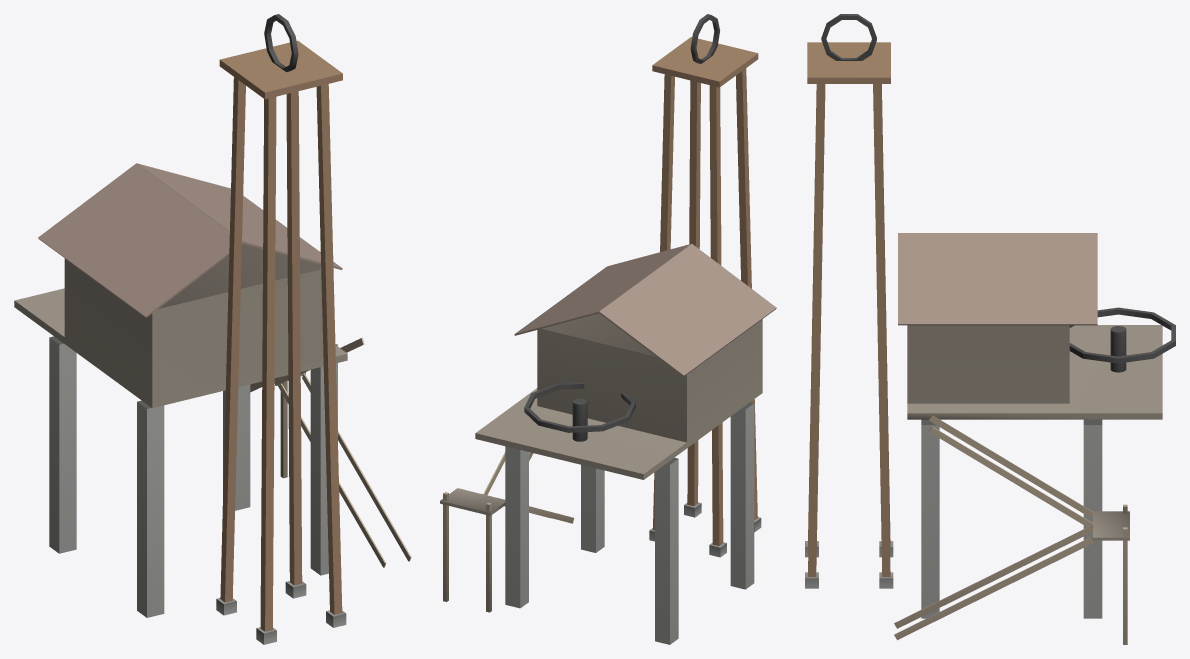
Rendered from ropeway_station_lod2.glb.
3 views of the same model, side by side, from view 1: azimuth 30°, elevation 25°; view 2: azimuth 150°, elevation 25°; view 3: azimuth 270°, elevation 25° (orthographic). The views are drawn at different scales.
Parts seen in each view (by area): view 1: static; view 2: static; view 3: static.
Part boxes in pixels (box(x1,y1,x2,y2)): static: box(14, 14, 411, 644); static: box(440, 14, 776, 644); static: box(805, 14, 1175, 644).
Size of the model in its own units: 12.24 by 26.64 by 15.97.
